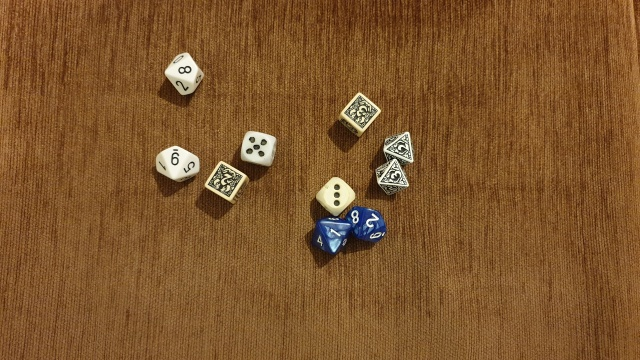d10-1: (307, 214, 352, 259)
d10-2: (343, 202, 393, 246)
d10-8: (158, 48, 211, 99)
d10-9: (151, 143, 202, 186)
d6-3: (311, 171, 353, 216)
d6-5: (236, 128, 279, 168)
d6p-2: (202, 159, 250, 206)
d6p-3: (336, 90, 383, 140)
d8p-2: (382, 129, 417, 166)
d8p-3: (372, 155, 410, 194)
